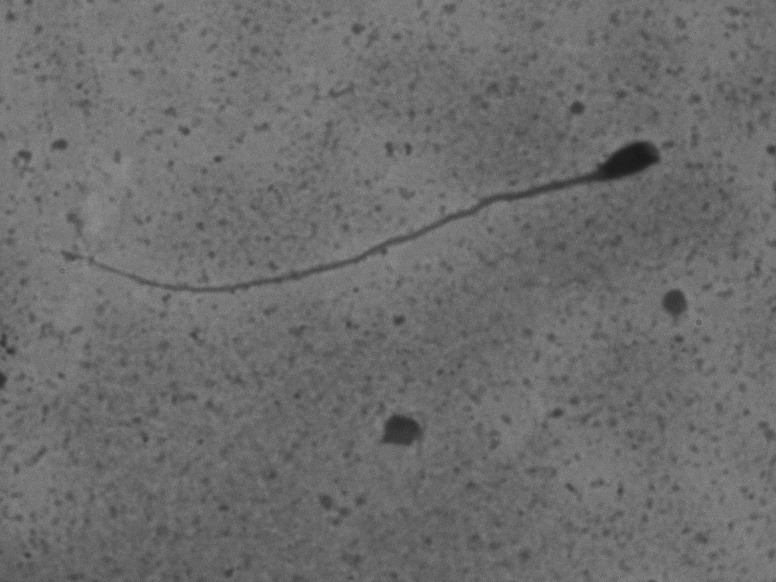Abnormal: (54, 108, 674, 317)
